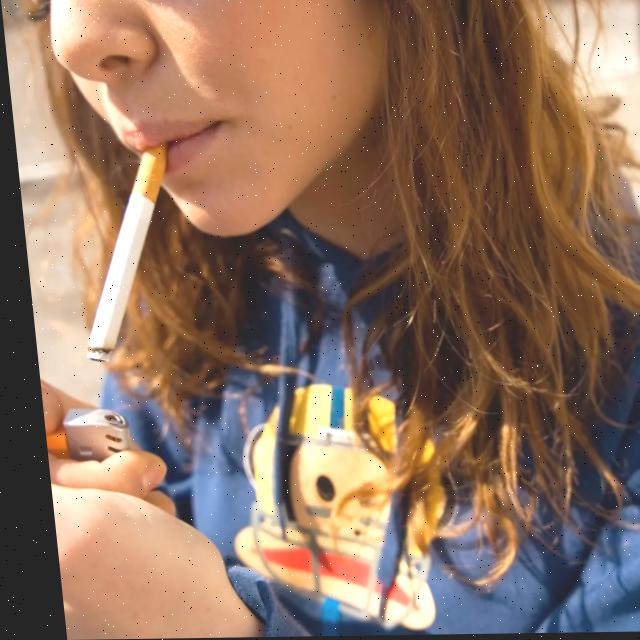cigarette: (61, 147, 181, 363)
